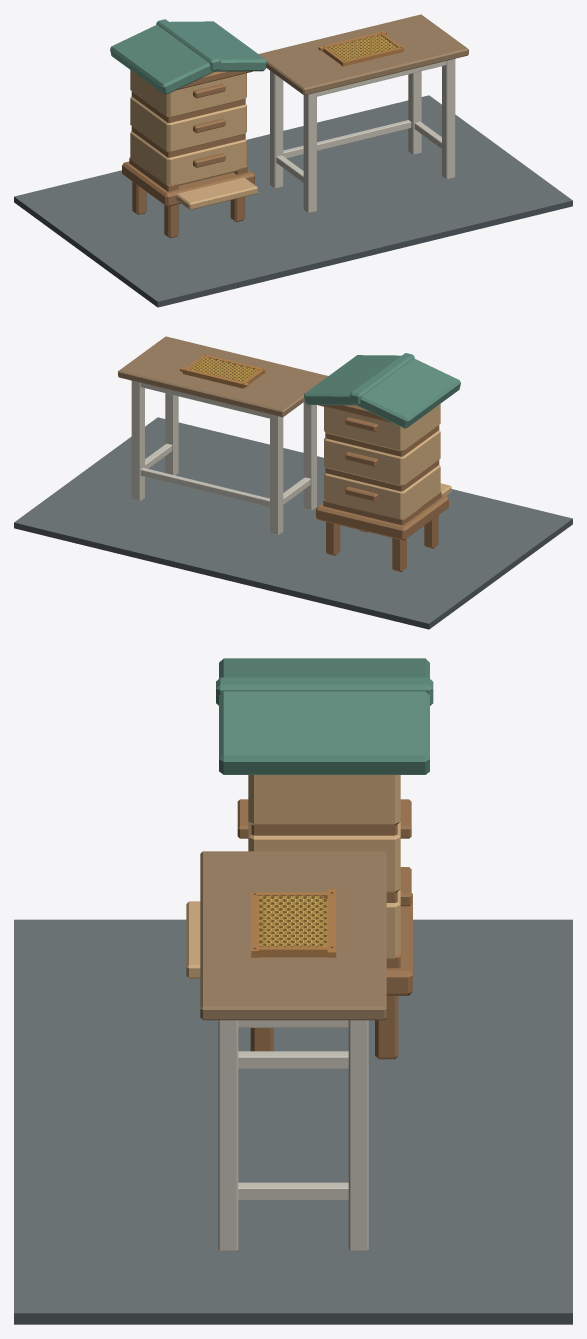
The picture shows the model from 3 angles, top to bottom: view 1: azimuth 30°, elevation 25°; view 2: azimuth 150°, elevation 25°; view 3: azimuth 270°, elevation 25°; orthographic projection. The views are drawn at different scales.
Parts seen in each view (by area): view 1: SCENE_ONLY__ApiaryInspectionFloor, hive__village-beehive-01, table__Complete work surface, table__Worktable leg, table__Worktable leg.002, table__Worktable leg.001, table__Rear lower brace, table__Worktable leg.003, frame__Wax_SharedWallRecessField, table__Upper long apron, frame__Frame_BottomBar; view 2: SCENE_ONLY__ApiaryInspectionFloor, hive__village-beehive-01, table__Complete work surface, table__Worktable leg.001, table__Worktable leg.003, table__Worktable leg, table__Rear lower brace, table__Worktable leg.002, frame__Wax_SharedWallRecessField, table__Upper long apron.001, frame__Frame_TopBarWithEars; view 3: SCENE_ONLY__ApiaryInspectionFloor, hive__village-beehive-01, table__Complete work surface, table__Worktable leg.002, table__Worktable leg.003, frame__Wax_SharedWallRecessField, table__Side lower stretcher.001, table__Side lower stretcher, table__Side upper apron.001.
Part boxes in pixels (x1,y1,x2,y2): SCENE_ONLY__ApiaryInspectionFloor: [14, 95, 572, 307]; hive__village-beehive-01: [110, 19, 267, 238]; table__Complete work surface: [259, 14, 468, 95]; table__Worktable leg: [303, 92, 316, 213]; table__Worktable leg.002: [442, 59, 455, 179]; table__Worktable leg.001: [270, 71, 283, 188]; table__Rear lower brace: [283, 120, 411, 158]; table__Worktable leg.003: [408, 71, 421, 154]; frame__Wax_SharedWallRecessField: [329, 35, 397, 60]; table__Upper long apron: [317, 61, 446, 96]; frame__Frame_BottomBar: [341, 47, 403, 66]; SCENE_ONLY__ApiaryInspectionFloor: [14, 417, 572, 629]; hive__village-beehive-01: [304, 353, 460, 571]; table__Complete work surface: [118, 336, 327, 417]; table__Worktable leg.001: [270, 414, 283, 535]; table__Worktable leg.003: [131, 381, 144, 501]; table__Worktable leg: [303, 401, 316, 510]; table__Rear lower brace: [140, 467, 269, 507]; table__Worktable leg.002: [165, 393, 178, 475]; frame__Wax_SharedWallRecessField: [190, 356, 258, 381]; table__Upper long apron.001: [140, 383, 269, 418]; frame__Frame_TopBarWithEars: [180, 367, 248, 388]; SCENE_ONLY__ApiaryInspectionFloor: [14, 919, 572, 1324]; hive__village-beehive-01: [186, 658, 433, 1059]; table__Complete work surface: [200, 851, 386, 1020]; table__Worktable leg.002: [218, 1020, 238, 1251]; table__Worktable leg.003: [348, 1020, 368, 1251]; frame__Wax_SharedWallRecessField: [259, 895, 327, 946]; table__Side lower stretcher.001: [238, 1182, 348, 1200]; table__Side lower stretcher: [238, 1051, 348, 1068]; table__Side upper apron.001: [238, 1020, 348, 1027].
Bounding box in the file's own units: 3 × 1.26 × 1.8.
